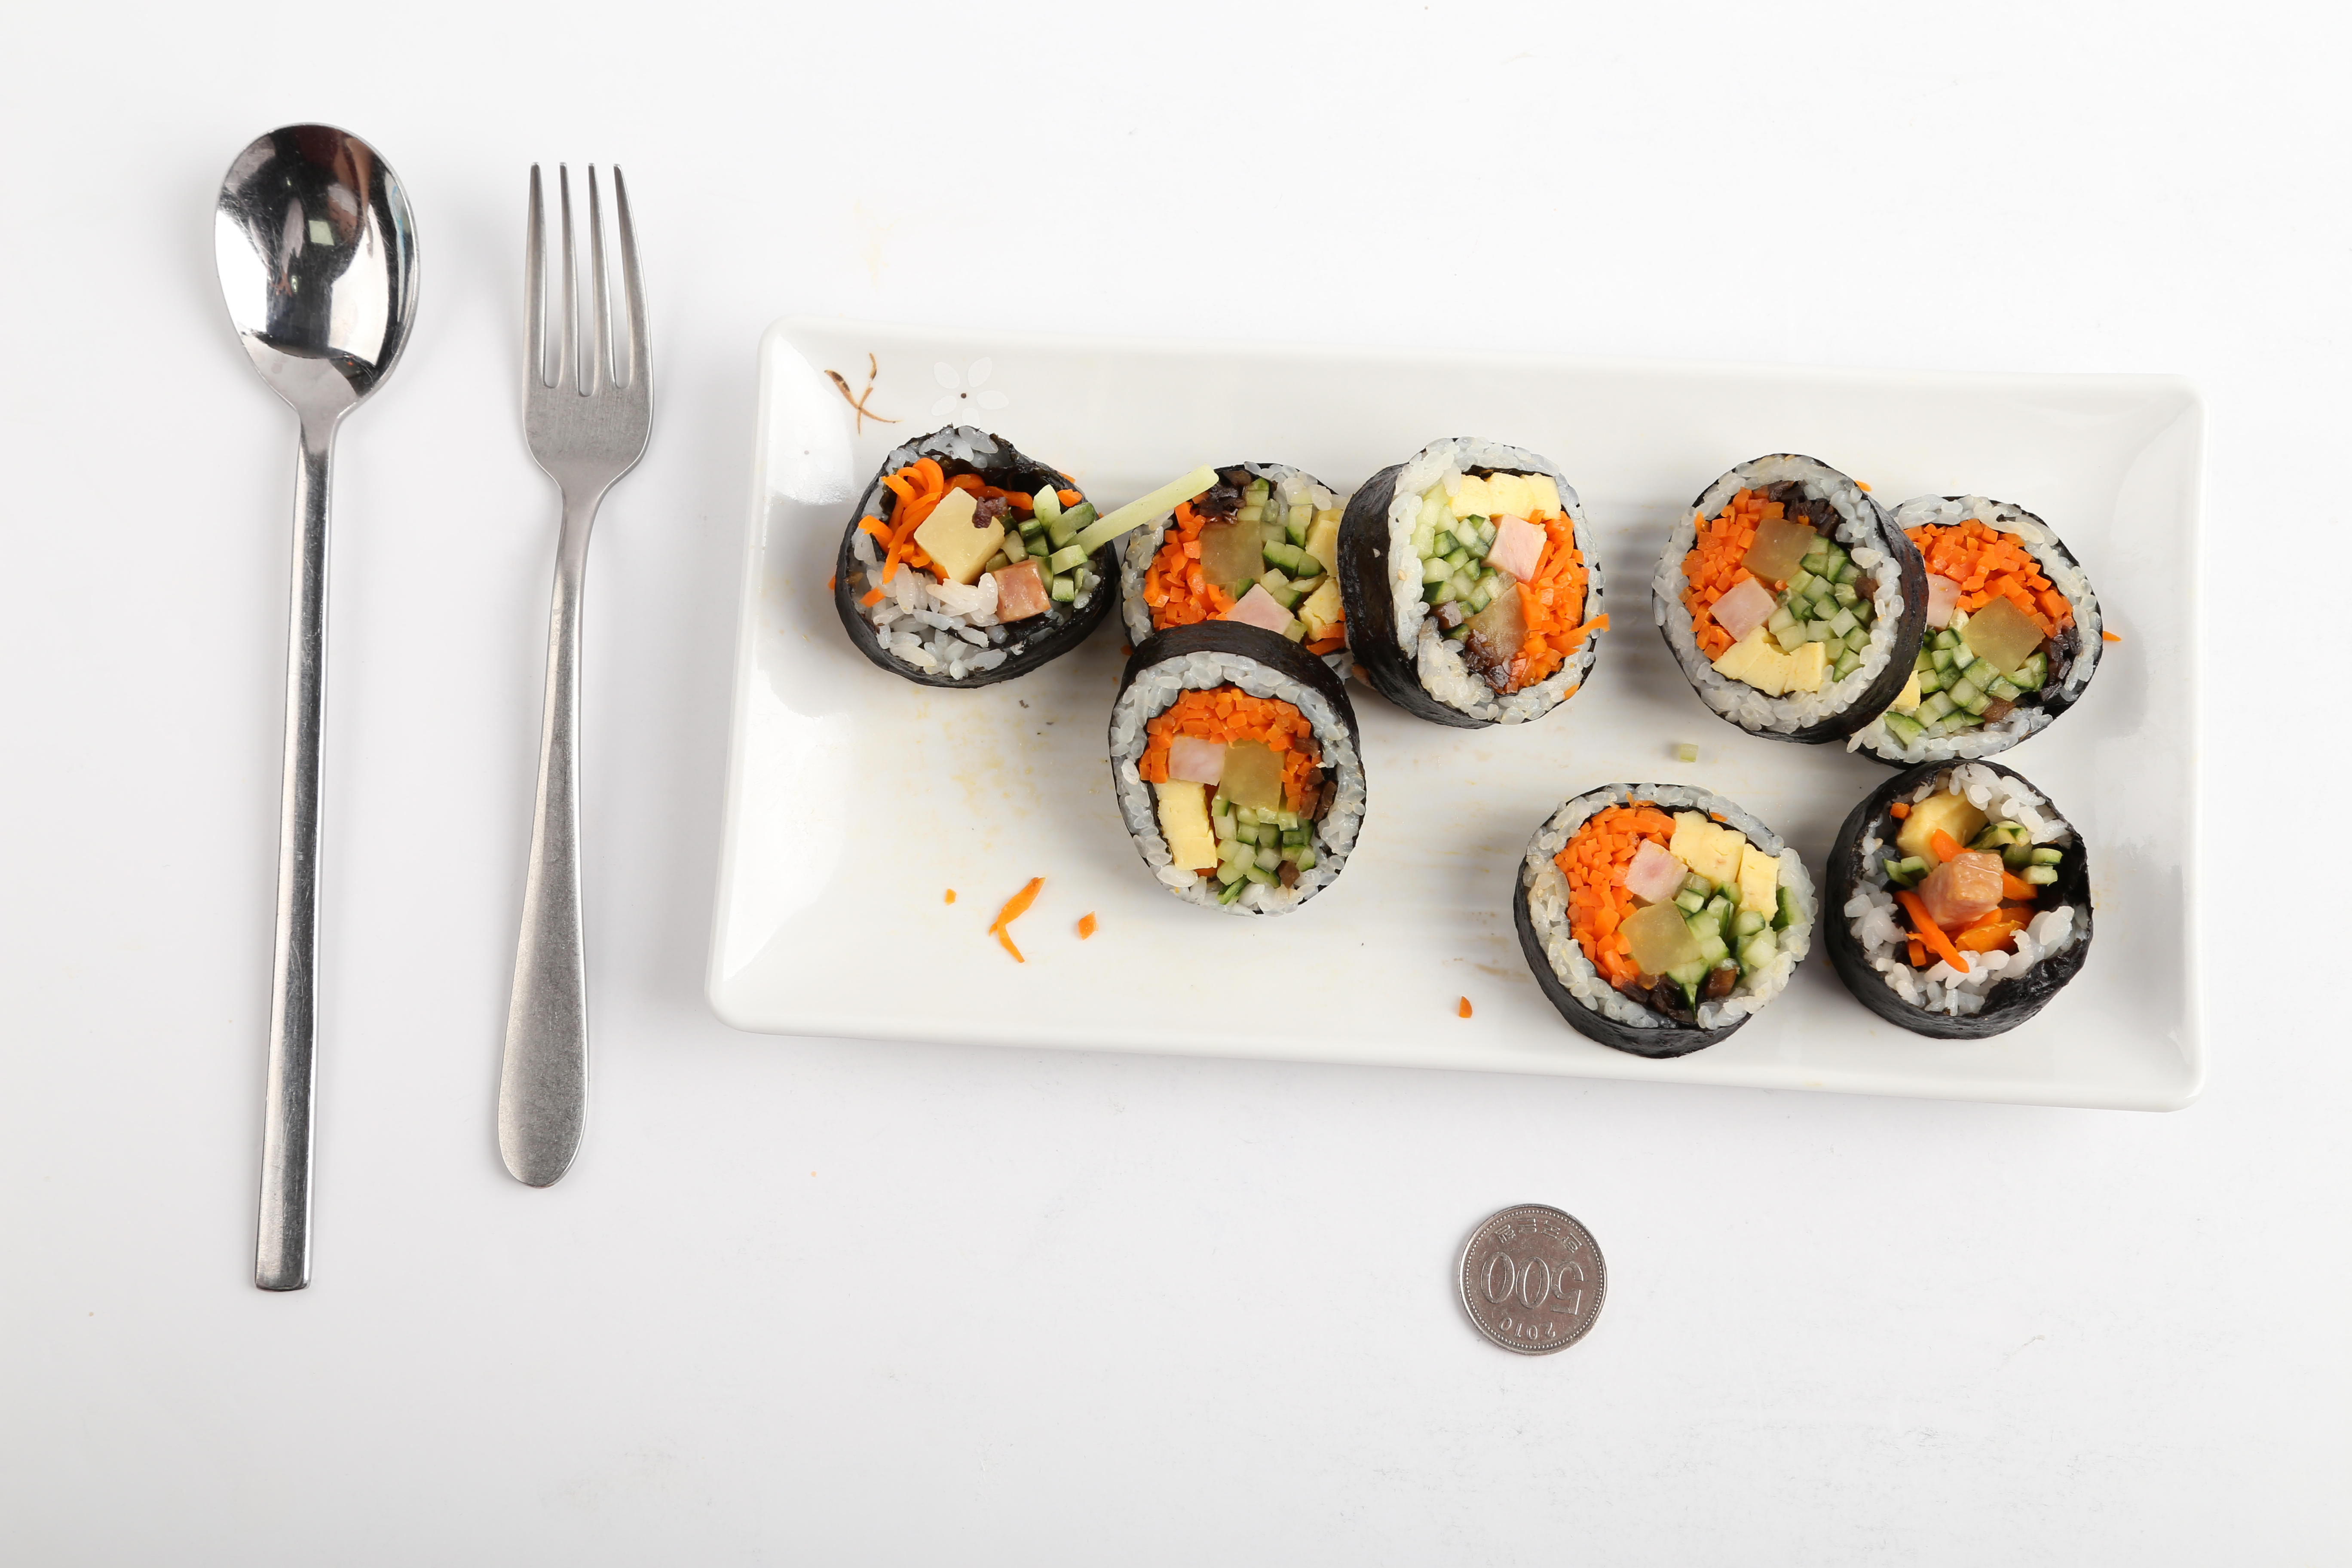dish: (754, 315, 2207, 1111)
ref_coin: (1449, 1200, 1615, 1367)
ref_fork: (514, 157, 658, 532)
ref_spoon: (208, 115, 427, 471)
김밥: (826, 416, 2109, 1062)
